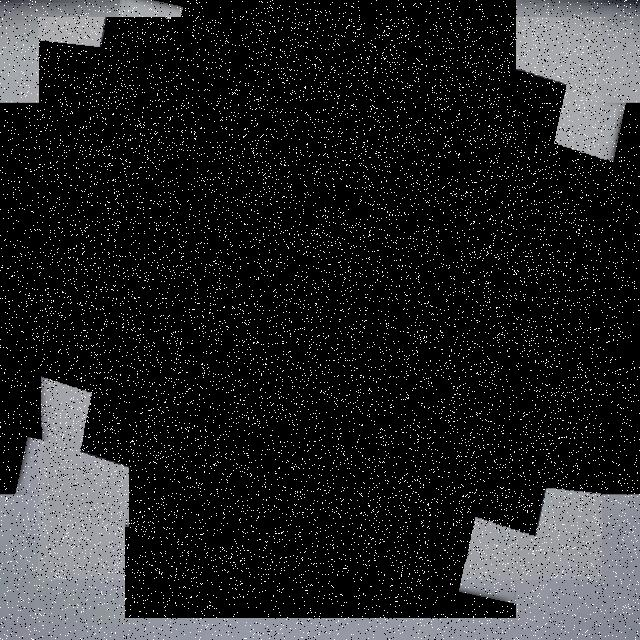dua puluh ribu rupiah: (38, 17, 602, 580)
